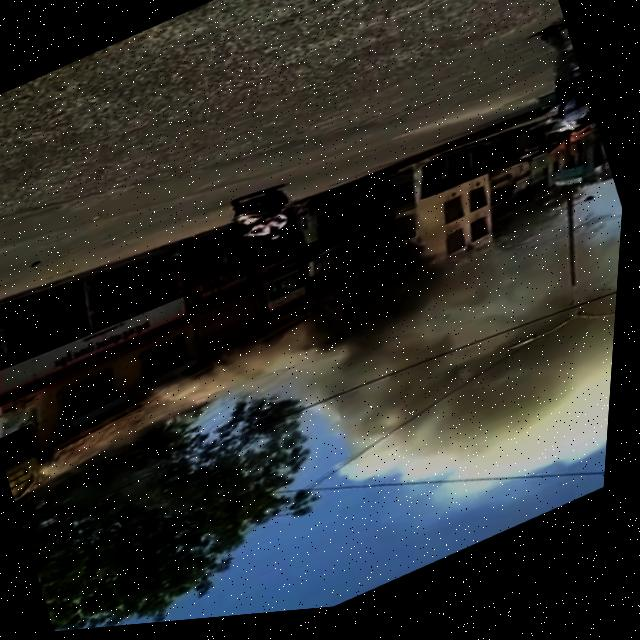Smoke: (105, 99, 632, 630)
